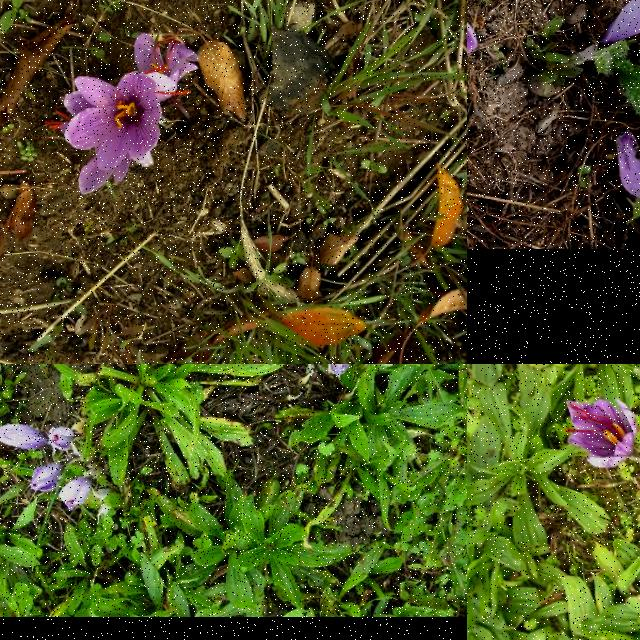flower: (566, 400, 638, 468), (602, 0, 640, 47), (0, 424, 50, 450), (59, 479, 91, 511), (30, 463, 62, 491), (50, 426, 74, 450)
overlap: (64, 32, 200, 196)
